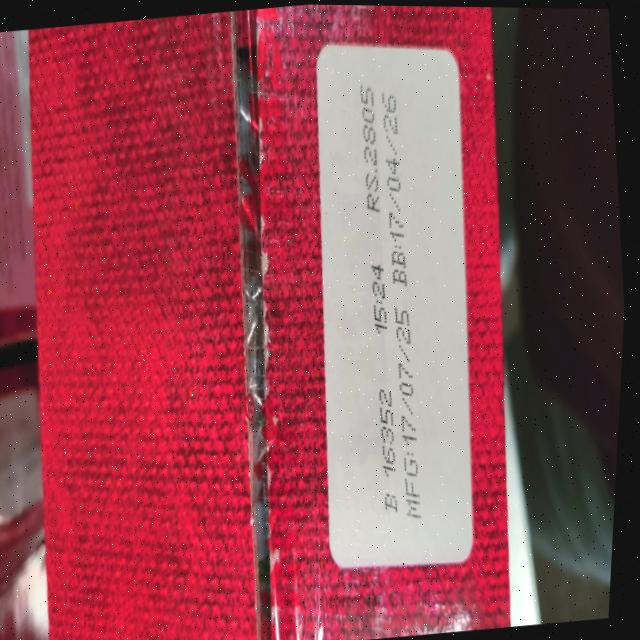BB: (369, 85, 419, 289)
Batch: (371, 385, 405, 517)
MFG: (381, 300, 434, 522)
RS: (350, 77, 393, 225)
TimeStamp: (363, 258, 395, 339)
